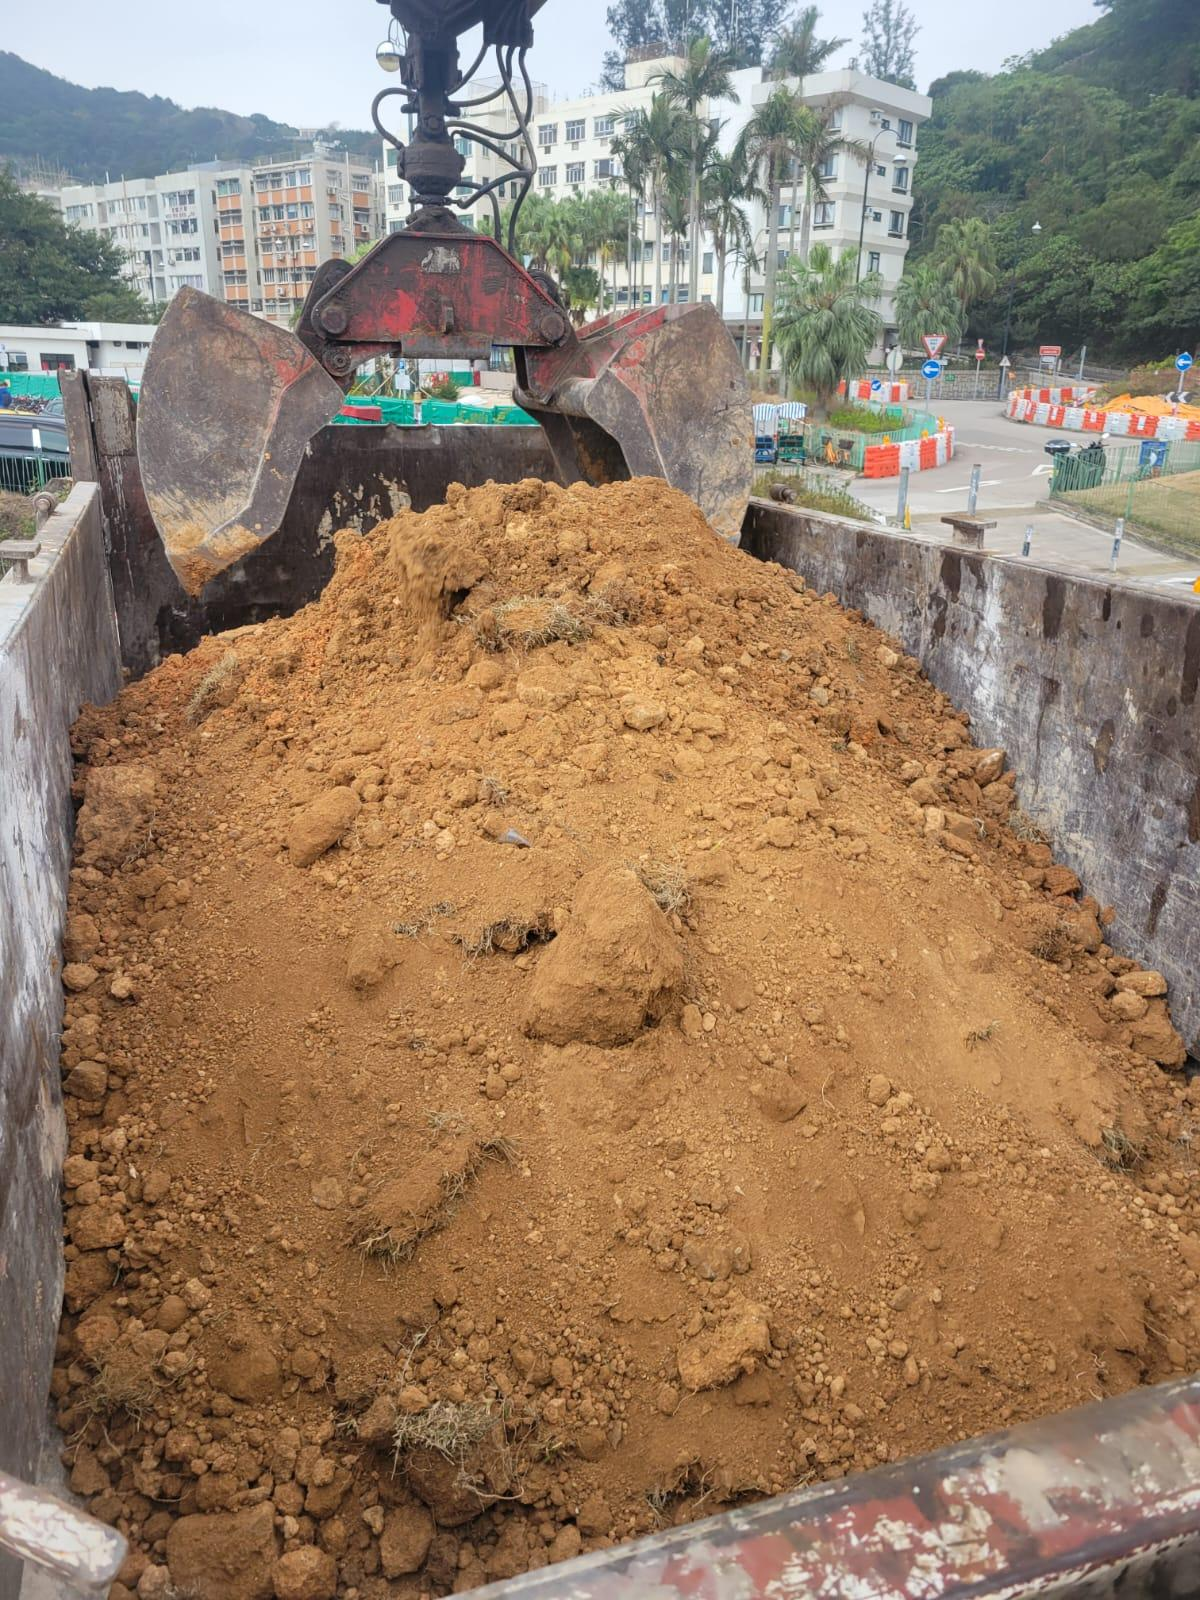dry: (61, 480, 1200, 1600)
